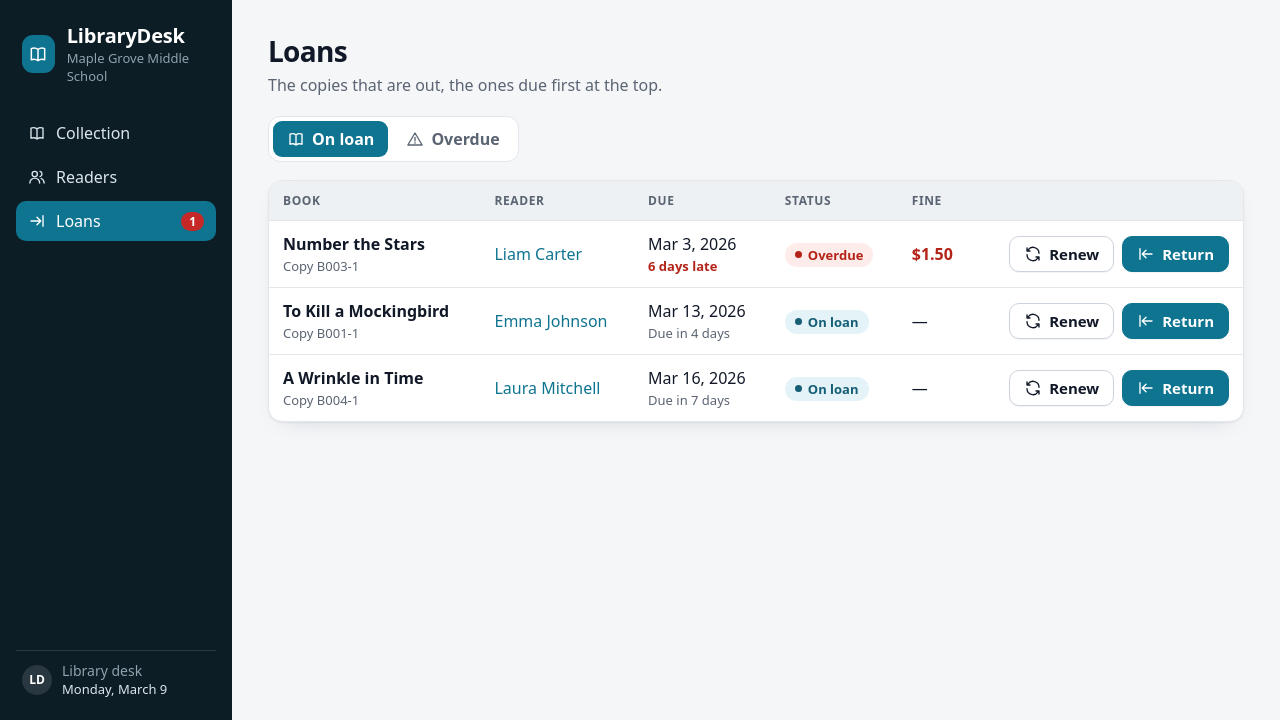
Test: the loans › takes a copy back and says so
expect the navigation bar named "Main" is shown: met, box [16,113,216,241]
expect the table named "Loans" is shown: met, box [268,180,1244,422]
Click the button with aria-label "Return To Kill a Mockingbird".
click(1176, 321)  # box [1122,303,1229,339]
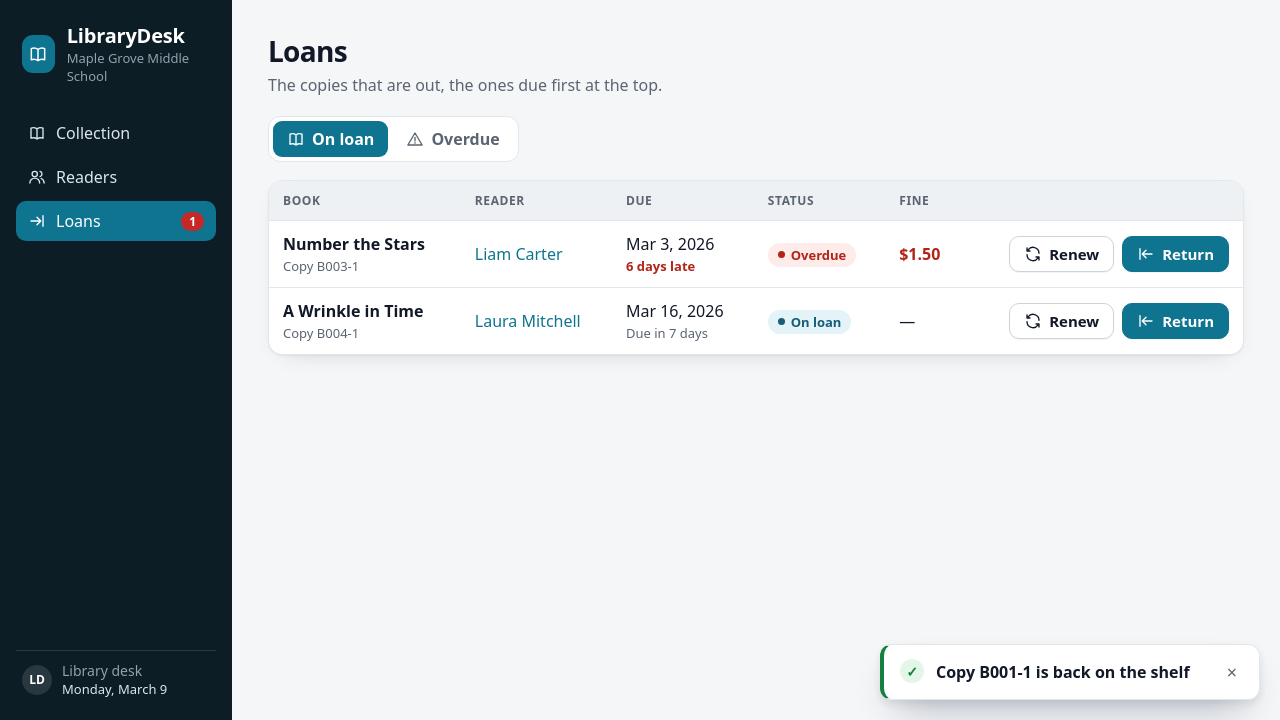
expect the row with test id "loan-2" is shown: met, box [269,221,1243,288]
expect the text "Copy B001-1 is back on the shelf" is shown: met, box [936,661,1207,683]
expect the row with test id "loan-1" is gone: met
